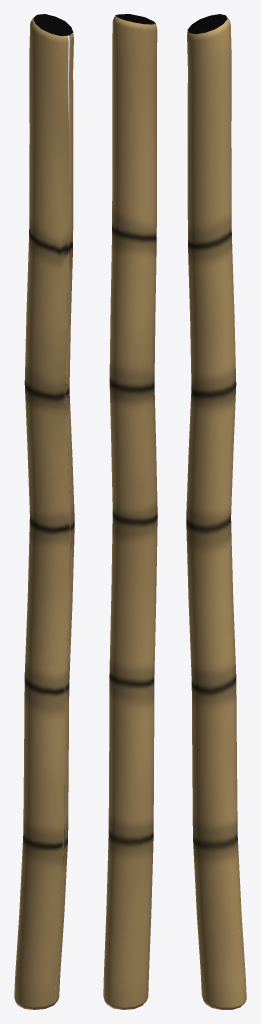
File: bamboo_prop.fbx
The picture shows the model from 3 angles, left to right: view 1: azimuth 90°, elevation 25°; view 2: azimuth 150°, elevation 25°; view 3: azimuth 270°, elevation 25°; orthographic projection.
Parts seen in each view (by area): view 1: pCylinder3; view 2: pCylinder3; view 3: pCylinder3.
Boxes of the visible parts, x1,y1,x2,y2 form: pCylinder3: (14, 14, 74, 1009); pCylinder3: (103, 14, 157, 1009); pCylinder3: (186, 14, 246, 1009).
Size of the model in its own units: 0.4517 by 10.37 by 0.5783.
1 material, 1 textured.
